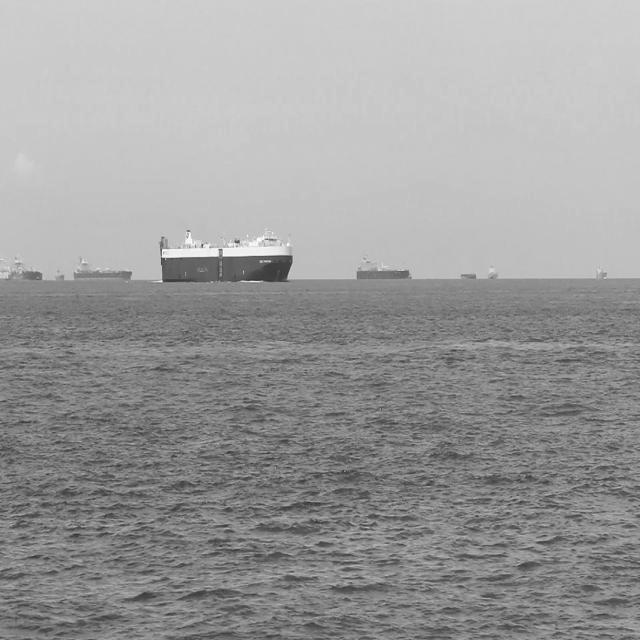ship: (160, 234, 298, 284), (354, 252, 409, 282), (8, 250, 44, 288), (71, 256, 131, 278), (0, 257, 15, 285), (482, 262, 500, 284), (592, 261, 610, 282), (458, 268, 478, 284), (54, 264, 66, 286), (406, 272, 414, 282)
